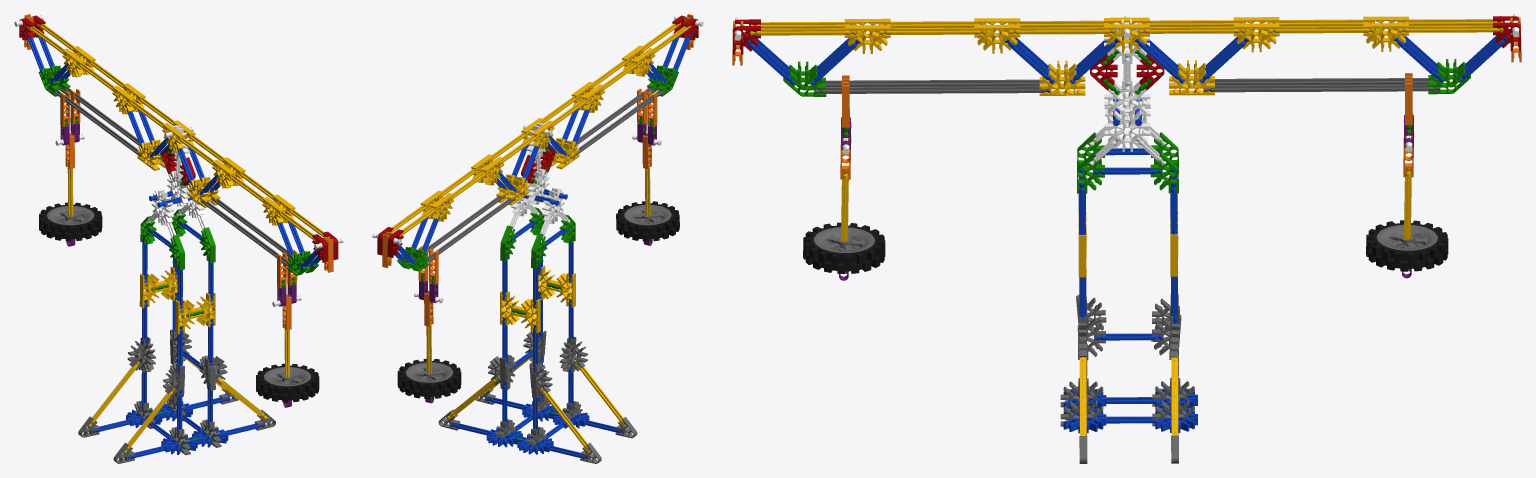
3 renders of one model, left to right at view 1: azimuth 30°, elevation 25°; view 2: azimuth 150°, elevation 25°; view 3: azimuth 270°, elevation 25°, orthographic. The views are drawn at different scales.
Visible parts, largest first — view 1: S1_L03.003, S1_L03.002, S1_L03.001, S1_L03.004, S1_L03.010, S1_L03.005, S1_L03.007, S1_L03.006, S1_L03.008; view 2: S1_L03.003, S1_L03.001, S1_L03.002, S1_L03.010, S1_L03.004, S1_L03.005, S1_L03.007, S1_L03.006, S1_L03.008; view 3: S1_L03.003, S1_L03.002, S1_L03.001, S1_L03.010, S1_L03.004, S1_L03.005, S1_L03.006, S1_L03.007.
Boxes of the visible parts, box(x1,y1,x2,y2) form: S1_L03.003: box(26, 23, 325, 452); S1_L03.002: box(47, 87, 310, 463); S1_L03.001: box(25, 31, 319, 459); S1_L03.004: box(38, 65, 318, 440); S1_L03.010: box(39, 202, 319, 402); S1_L03.005: box(14, 15, 343, 306); S1_L03.007: box(24, 14, 333, 330); S1_L03.006: box(19, 15, 338, 262); S1_L03.008: box(60, 123, 296, 407); S1_L03.003: box(390, 22, 691, 452); S1_L03.001: box(395, 31, 692, 459); S1_L03.002: box(405, 86, 671, 463); S1_L03.010: box(397, 201, 679, 398); S1_L03.004: box(397, 65, 678, 439); S1_L03.005: box(372, 15, 703, 303); S1_L03.007: box(382, 14, 693, 326); S1_L03.006: box(377, 15, 698, 257); S1_L03.008: box(419, 123, 656, 403); S1_L03.003: box(750, 16, 1503, 435); S1_L03.002: box(813, 78, 1438, 463); S1_L03.001: box(745, 35, 1508, 435); S1_L03.010: box(803, 220, 1448, 273); S1_L03.004: box(783, 49, 1470, 193); S1_L03.005: box(734, 14, 1519, 165); S1_L03.006: box(733, 16, 1520, 90); S1_L03.007: box(732, 17, 1521, 179).
Bounding box in the file's own units: 1.94 × 3.55 × 6.4.
